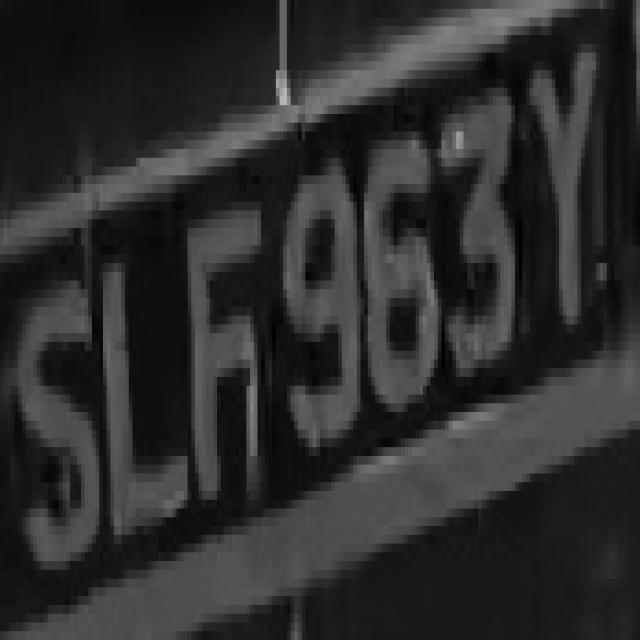3: (434, 53, 526, 403)
6: (361, 114, 445, 438)
9: (268, 158, 357, 508)
F: (180, 176, 280, 544)
L: (103, 219, 188, 561)
S: (8, 255, 100, 622)
Y: (522, 18, 614, 350)
